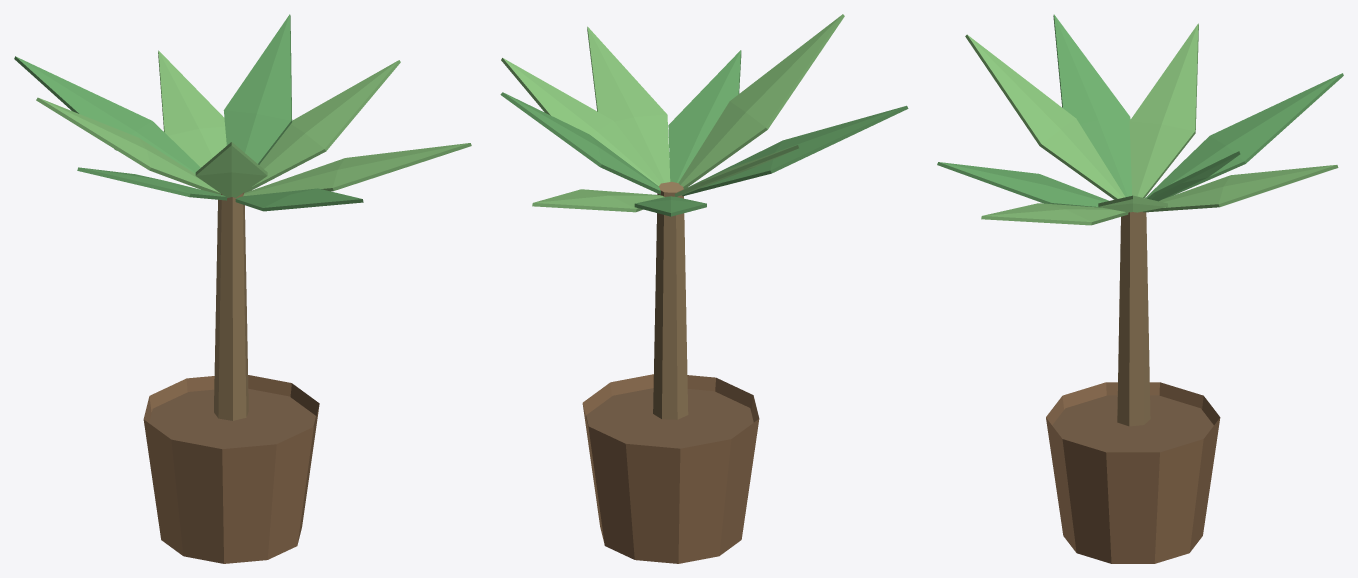
The model's file is plant_palm.glb.
The picture shows the model from 3 angles, left to right: view 1: azimuth 30°, elevation 25°; view 2: azimuth 150°, elevation 25°; view 3: azimuth 270°, elevation 25°; orthographic projection. The views are drawn at different scales.
Visible parts, largest first — view 1: plant_palm; view 2: plant_palm; view 3: plant_palm.
Boxes of the visible parts, bbox=[...] form: plant_palm: bbox=[14, 14, 471, 563]; plant_palm: bbox=[500, 14, 908, 563]; plant_palm: bbox=[937, 14, 1343, 563].
Size of the model in its own units: 0.9358 by 1.17 by 0.9326.
